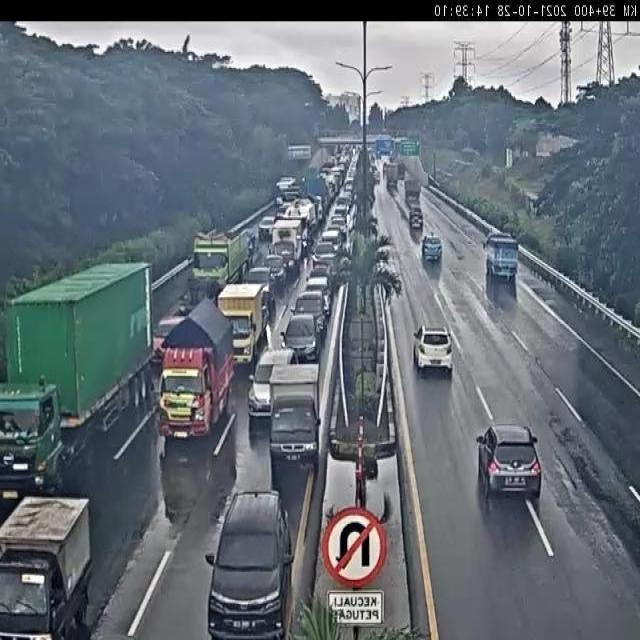Bus: (276, 175, 297, 206)
Car: (205, 488, 295, 637), (476, 423, 541, 502), (248, 346, 297, 425), (282, 312, 322, 365), (412, 324, 452, 376), (294, 289, 328, 337), (152, 313, 188, 356), (243, 263, 275, 306), (305, 273, 333, 317), (266, 252, 290, 290), (312, 239, 338, 268), (307, 260, 333, 284), (422, 234, 442, 263), (257, 213, 277, 241), (292, 293, 313, 319), (320, 229, 342, 253), (245, 228, 257, 260), (330, 216, 348, 237), (409, 208, 423, 230), (334, 205, 348, 219)
Truck: (0, 256, 157, 504), (0, 493, 92, 639), (155, 298, 235, 440), (265, 362, 322, 469), (217, 282, 271, 368), (190, 226, 248, 290), (268, 215, 304, 276), (481, 231, 521, 281), (284, 195, 317, 253), (303, 177, 324, 221), (282, 182, 304, 206), (404, 178, 421, 204), (385, 162, 399, 188), (398, 160, 406, 181)
